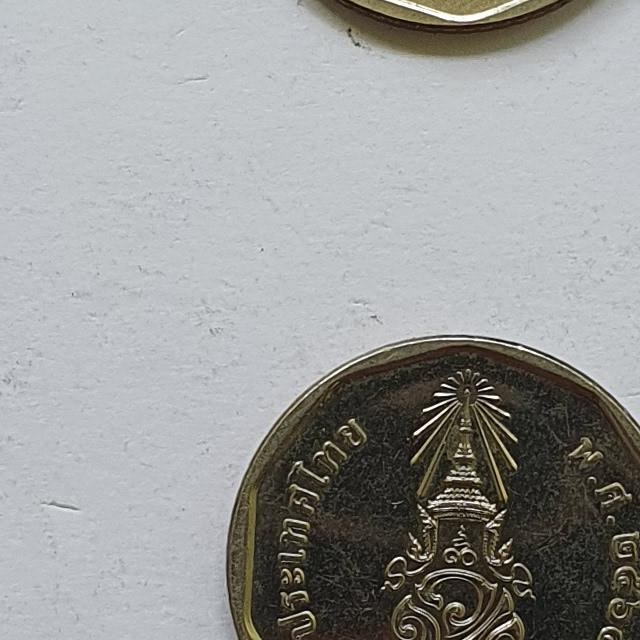5 Bath: (222, 328, 639, 640), (313, 1, 590, 28)
